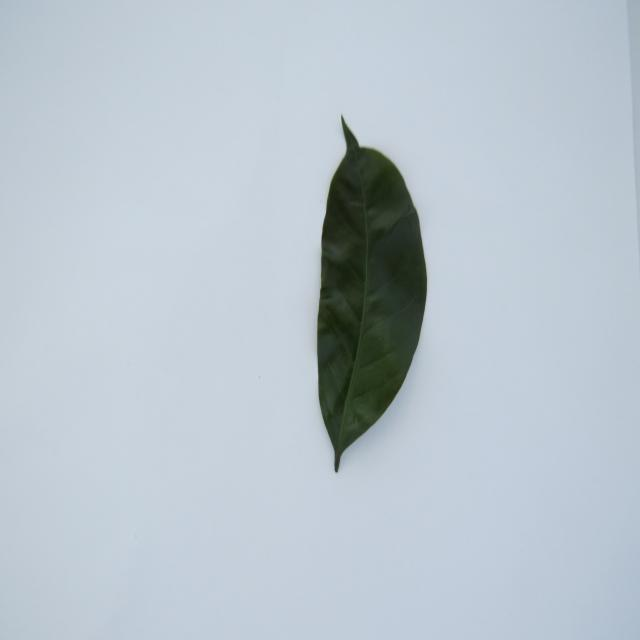DeficienciaNutricional-Boro: (318, 118, 426, 472)
